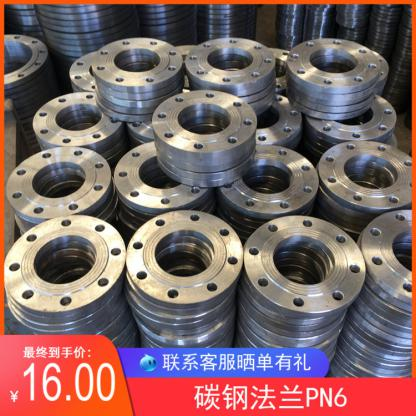FOD: (244, 212, 369, 322), (3, 212, 124, 322), (125, 207, 244, 312), (149, 88, 260, 158), (88, 34, 185, 93)
